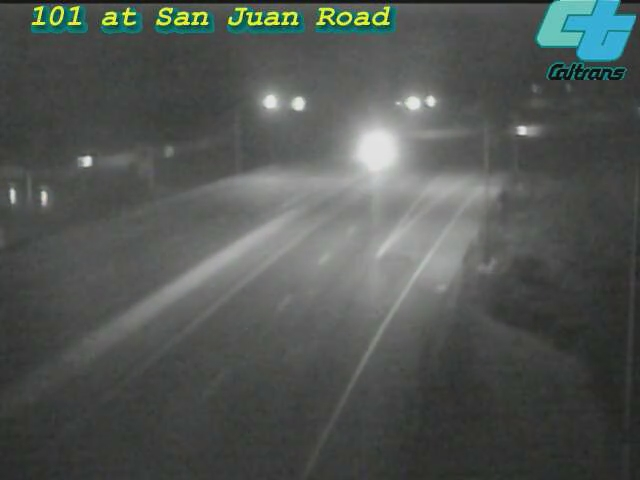vehicle: (350, 127, 400, 177), (503, 106, 553, 156)
